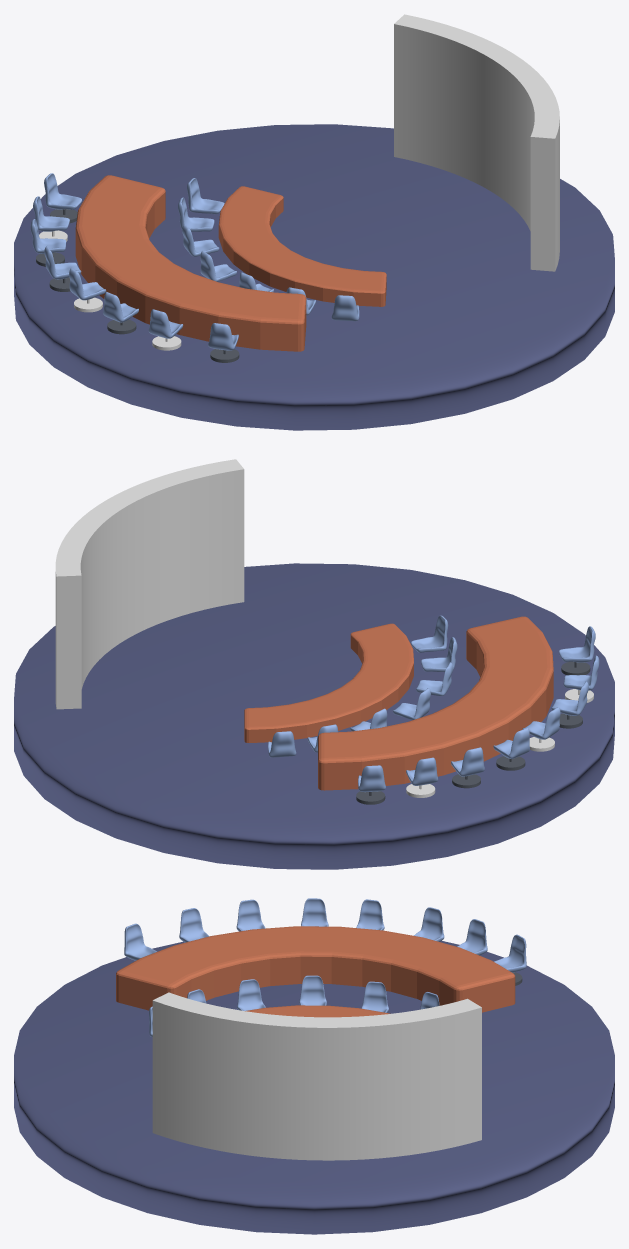
The model's file is deskkk.fbx.
3 views of the same model, one above another, from view 1: azimuth 30°, elevation 25°; view 2: azimuth 150°, elevation 25°; view 3: azimuth 270°, elevation 25° (orthographic).
Visible parts, largest first — view 1: 강의실바닥, screen, desk, minidesk, cha.009, 1, cha.005, cha.007, cha.006, cha.003, cha, 1.006 (+4 smaller); view 2: 강의실바닥, screen, desk, minidesk, 1.006, cha.007, cha.002, cha.008, cha.003, cha.009, 1, cha (+4 smaller); view 3: 강의실바닥, screen, desk, minidesk, cha.007, cha.006, 1.003, 1.004, cha.009, cha.005, cha.003, cha.002 (+3 smaller).
Boxes of the visible parts, x1,y1,x2,y2 form: 강의실바닥: (14, 124, 614, 430); screen: (394, 14, 559, 271); desk: (75, 175, 306, 351); minidesk: (218, 186, 386, 306); cha.009: (44, 173, 81, 209); 1: (187, 178, 224, 214); cha.005: (103, 291, 138, 322); cha.007: (208, 323, 238, 350); cha.006: (148, 309, 183, 338); cha.003: (33, 196, 69, 231); cha: (69, 267, 106, 300); 1.006: (331, 295, 359, 321); 강의실바닥: (14, 563, 614, 869); screen: (55, 459, 244, 709); desk: (318, 616, 553, 790); minidesk: (244, 623, 413, 742); 1.006: (411, 615, 448, 652); cha.007: (559, 626, 595, 662); cha.002: (493, 727, 529, 758); cha.008: (451, 747, 484, 776); cha.003: (406, 757, 438, 785); cha.009: (358, 765, 385, 792); 1: (268, 731, 296, 757); cha: (522, 707, 560, 739); 강의실바닥: (14, 941, 614, 1234); screen: (152, 992, 481, 1160); desk: (116, 926, 515, 1012); minidesk: (245, 1005, 390, 1017); cha.007: (124, 923, 156, 960); cha.006: (179, 908, 209, 942); 1.003: (299, 975, 326, 1005); 1.004: (237, 979, 265, 1010); cha.009: (494, 934, 526, 972); cha.005: (236, 899, 265, 931); cha.003: (457, 919, 487, 955); cha.002: (356, 899, 384, 930).
Size of the model in its own units: 4146 by 1407 by 4146.
